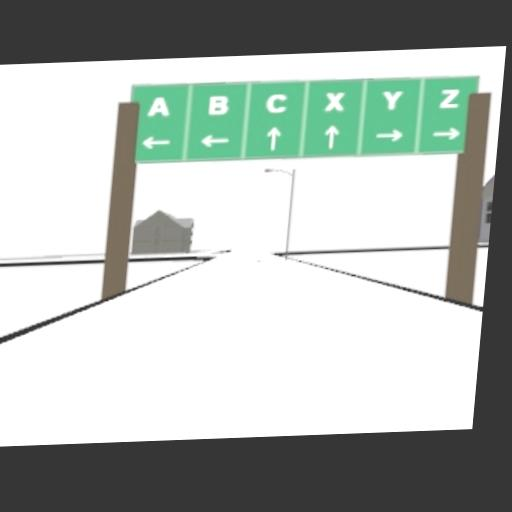A: (147, 94, 170, 116)
B: (207, 94, 229, 113)
C: (265, 92, 287, 111)
Left: (197, 132, 230, 147), (141, 135, 171, 149)
Right: (431, 125, 461, 139), (375, 127, 403, 141)
Straight: (265, 124, 281, 149), (323, 124, 339, 147)
X: (325, 89, 345, 109)
Y: (381, 89, 403, 109)
Z: (439, 87, 459, 107)
